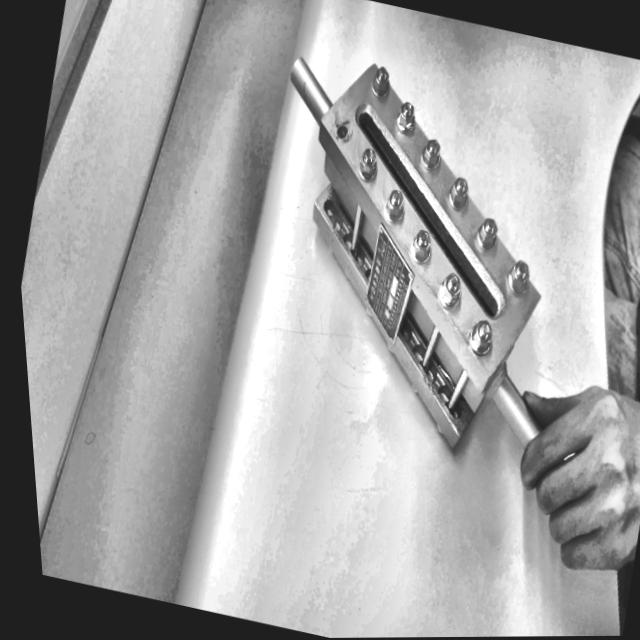ShuiWeiQi_11: (203, 27, 621, 450)
